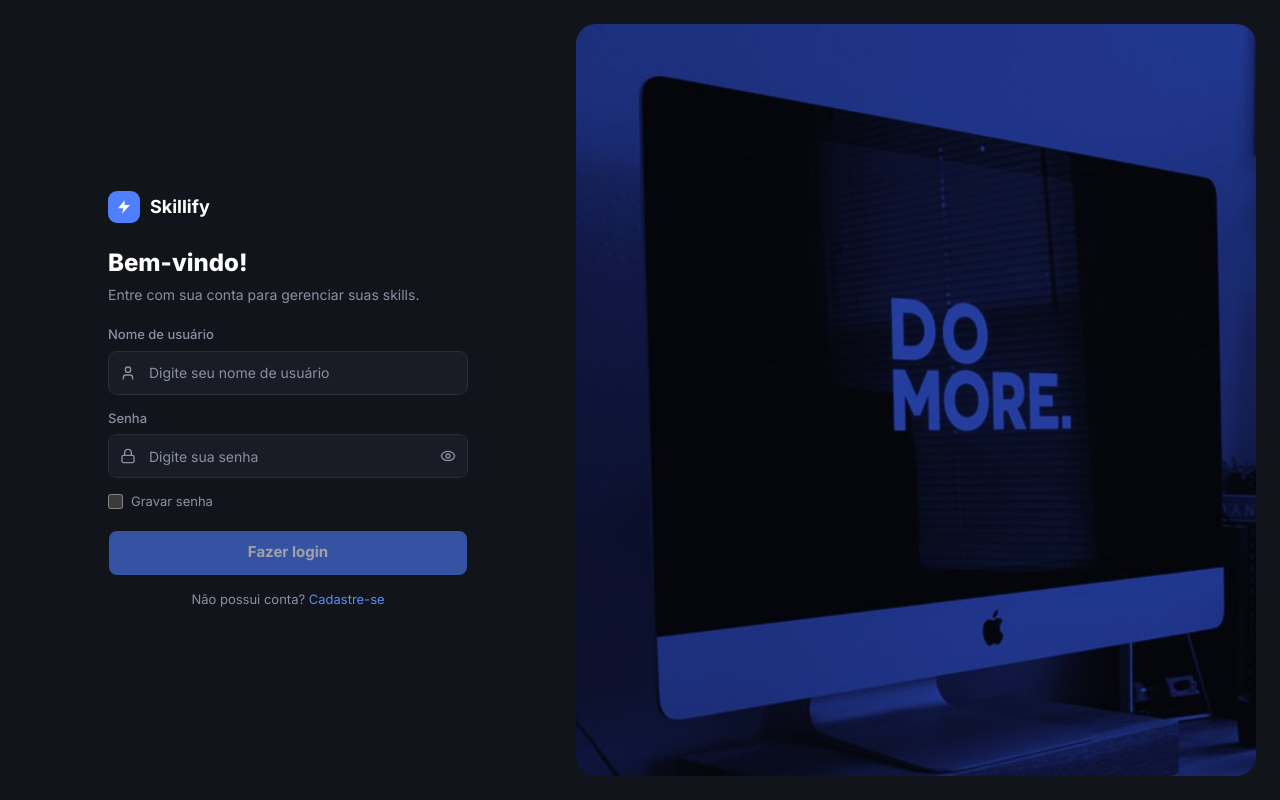
Gestão de skills › permite que um ADMIN crie uma nova skill
This screenshot has width=1280, height=800.
Type "admin" into the field with id "usuario" at (288,373), box [108,351,468,395]
Type "1234" into the password field with id "senha" at (288,456), box [108,434,468,478]
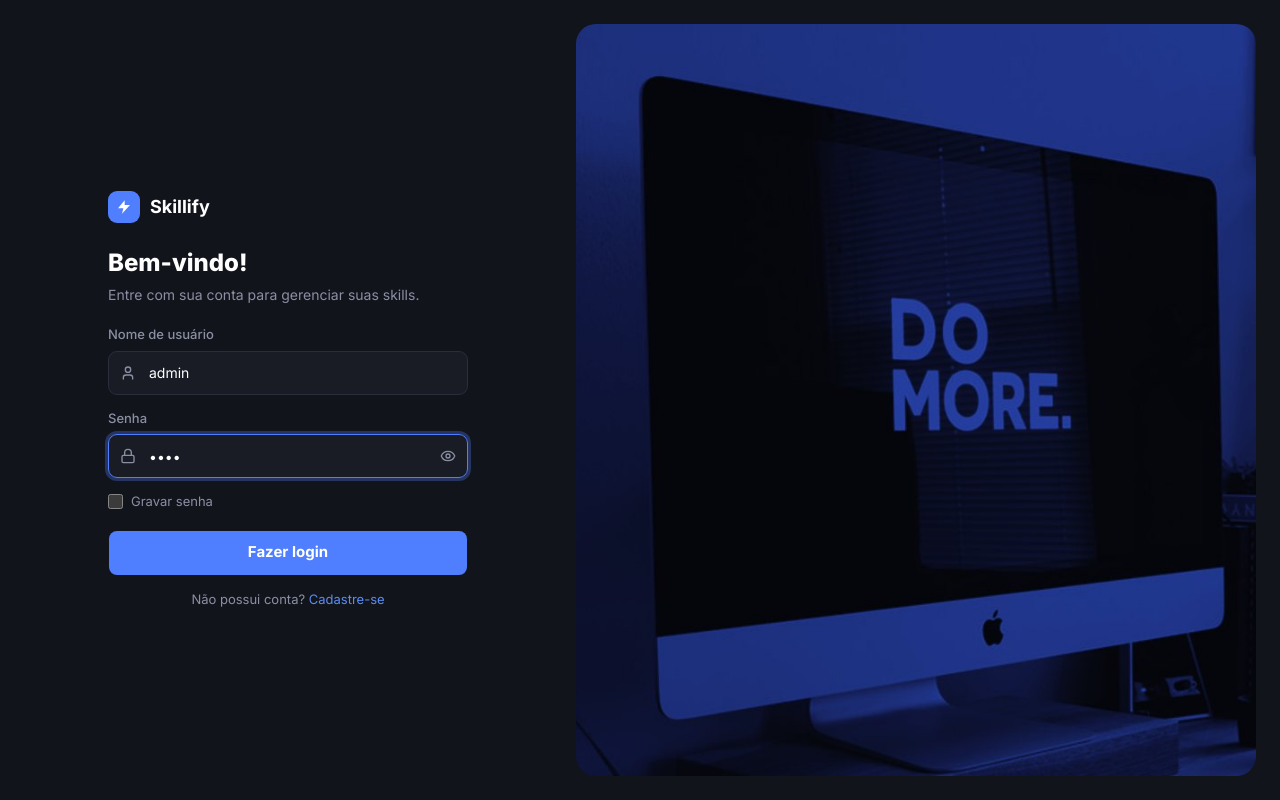
Click the button "Fazer login" at (288,553), box [108,530,468,576]
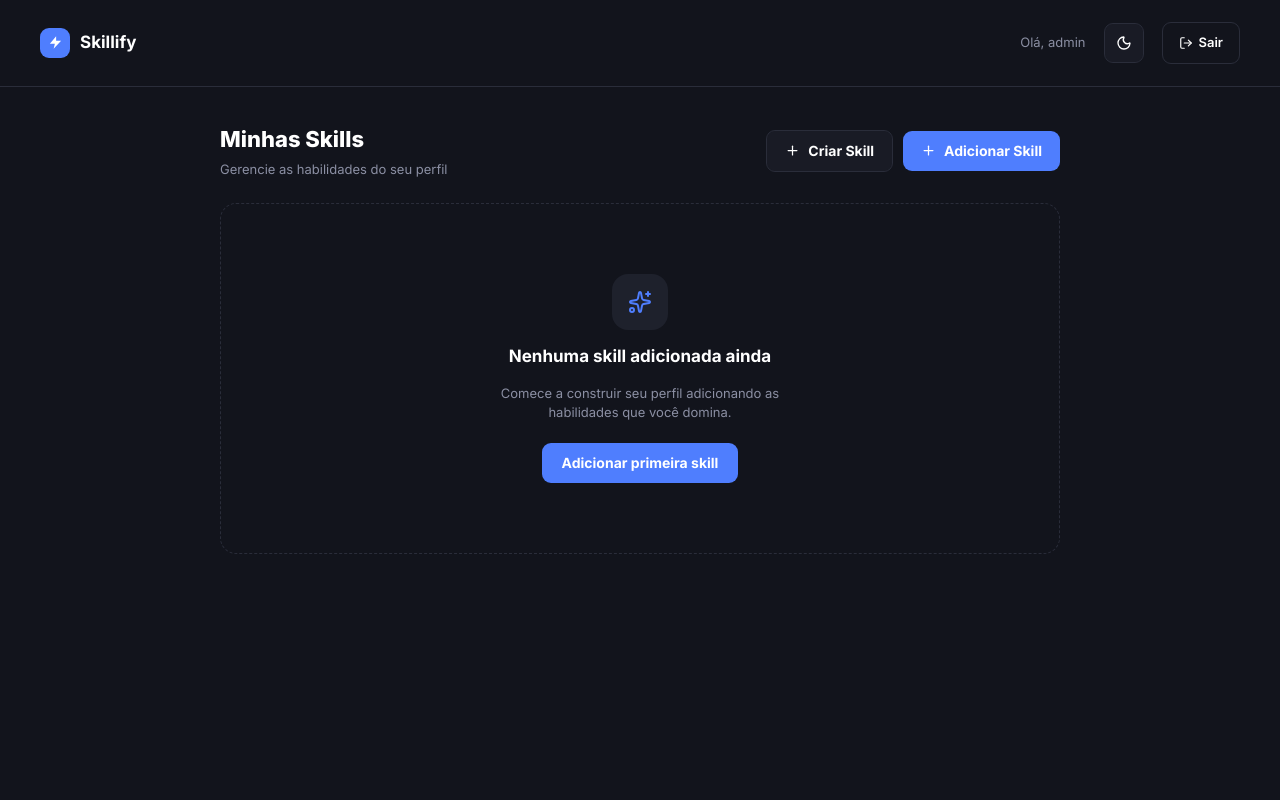
Click the button "Criar Skill" at (830,151), box [766,130,893,172]
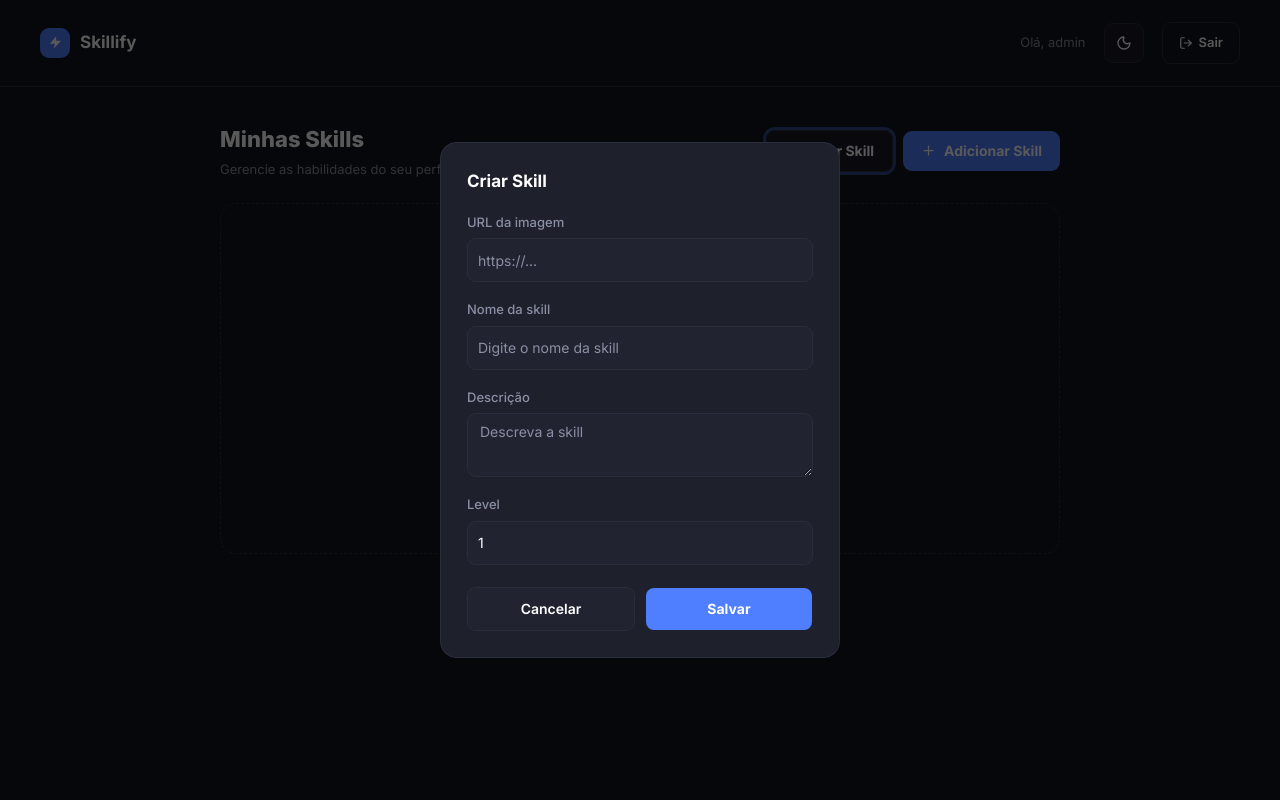
Type "Go" into the field with id "create-skill-nome" at (640,348), box [467,326,813,370]
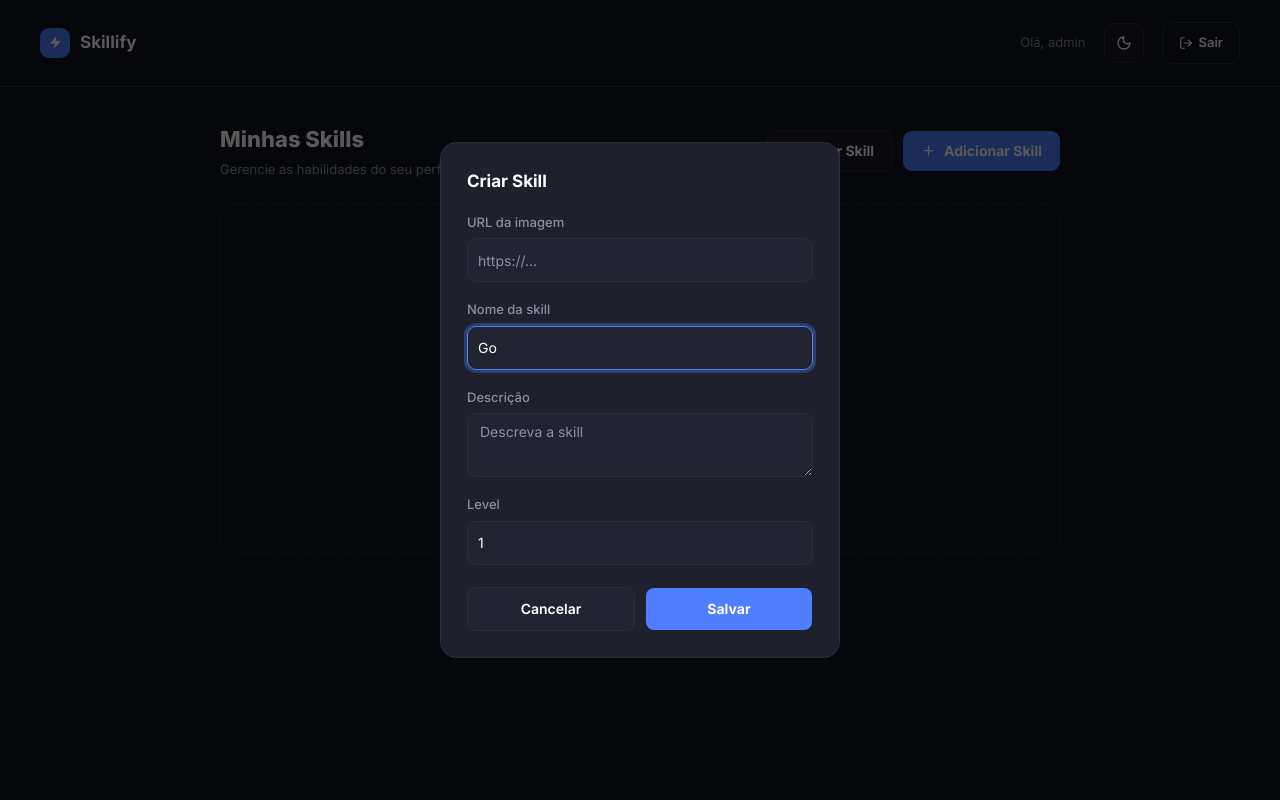
Type "Backend" into the text box with id "create-skill-descricao" at (640,445), box [467,413,813,477]
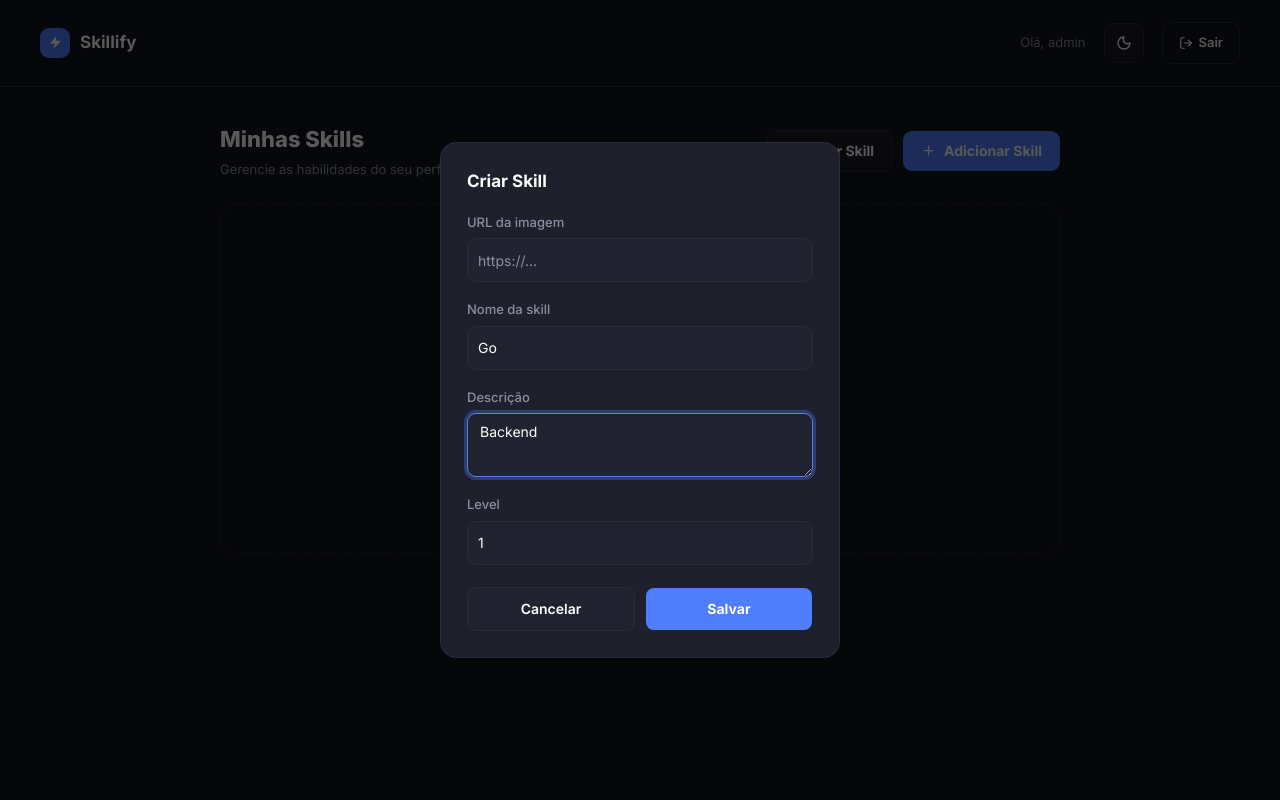
Click the button "Salvar" at (729,609), box [645,587,813,631]
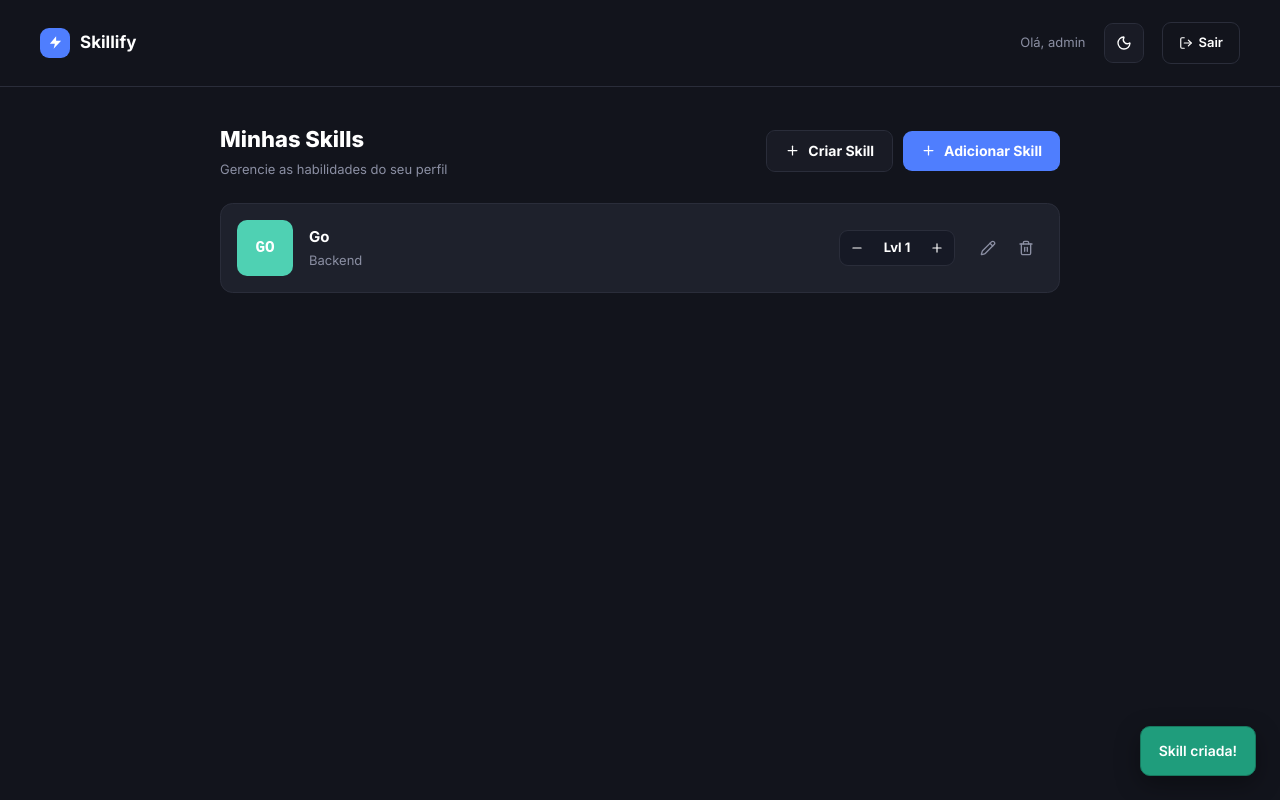
Check: the text "Skill criada!" is shown, box [1140,726,1256,776]
Check: the text "Go" is shown, box [309,227,330,246]
